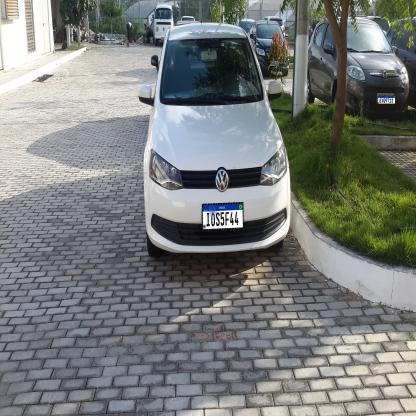PlacaM: (202, 202, 244, 231), (378, 96, 395, 104)
